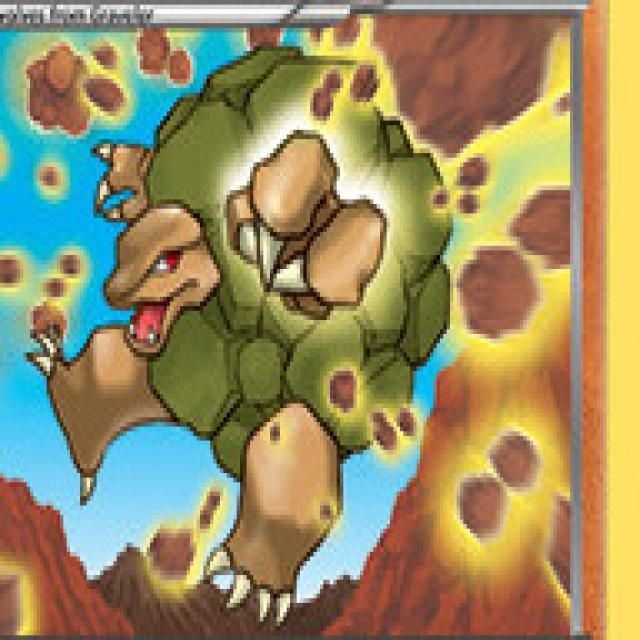Golem: (79, 56, 432, 534)
